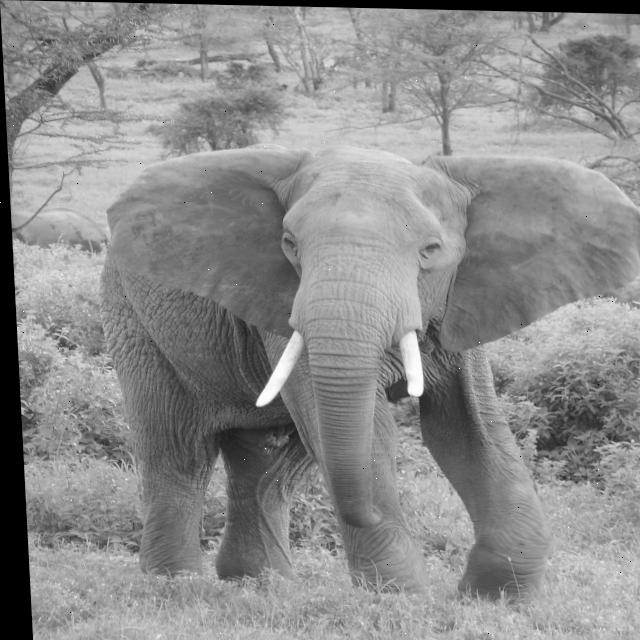Elephant: (89, 138, 640, 609), (11, 206, 110, 255)
